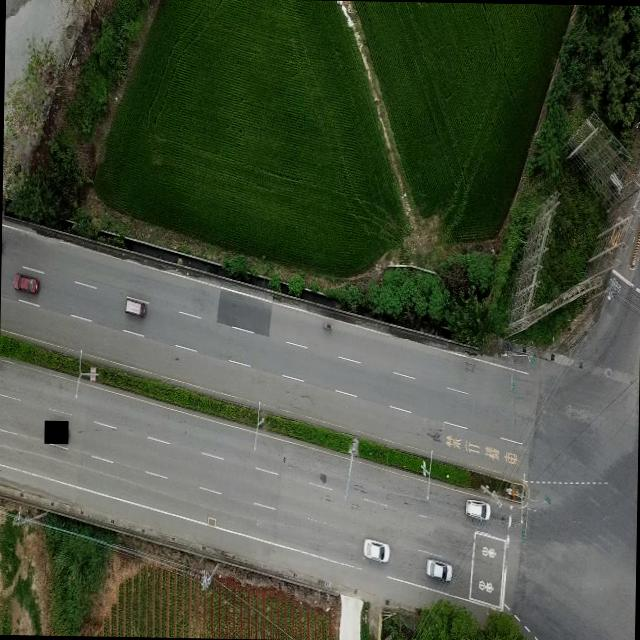car: (362, 537, 390, 561), (424, 557, 452, 581), (12, 272, 40, 293), (464, 498, 490, 520), (123, 295, 146, 316)
